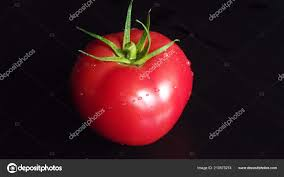tomato: (71, 29, 193, 145)
